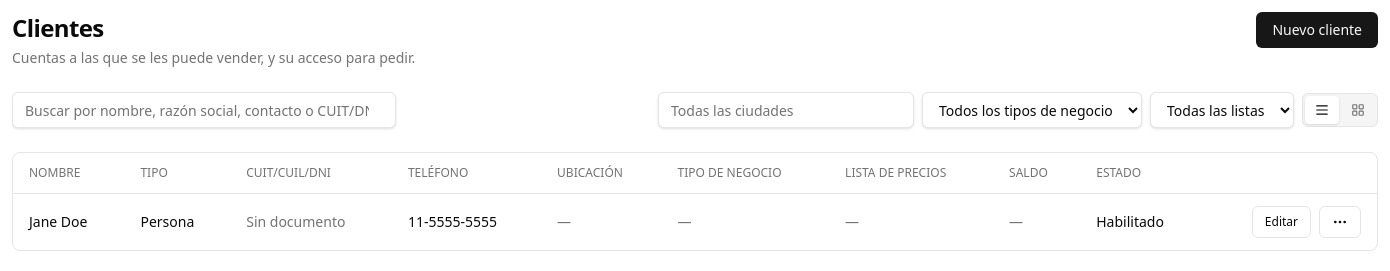
Test: CustomersScreen › shows a helpful empty state when the filter matches nothing
Expected: the text "Jane Doe" is shown, x1=13 y1=194 x2=124 y2=250
Type "zzzz" into the search field named "buscar clientes".
click(204, 110); type("zzzz")  # box x1=12 y1=92 x2=396 y2=128
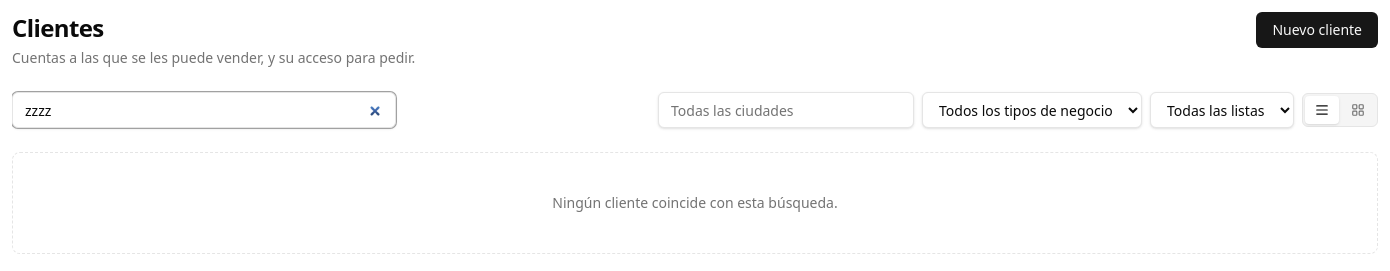
Now the text "Ningún cliente coincide con esta búsqueda." is shown, box x1=12 y1=152 x2=1378 y2=254
Now the table is gone
